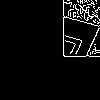D: (25, 24, 97, 74)
